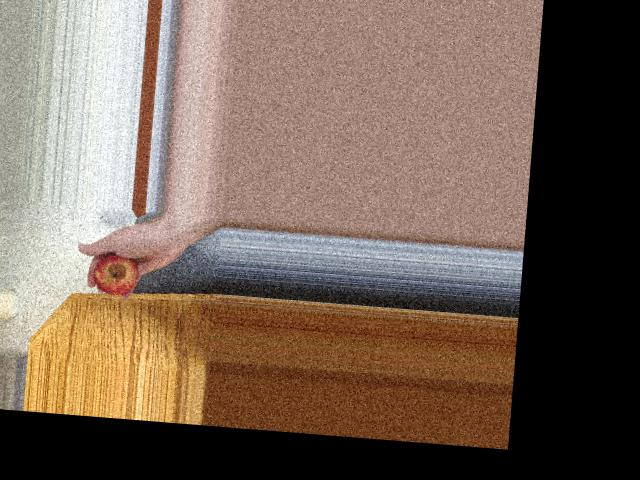apple: (89, 249, 148, 297)
